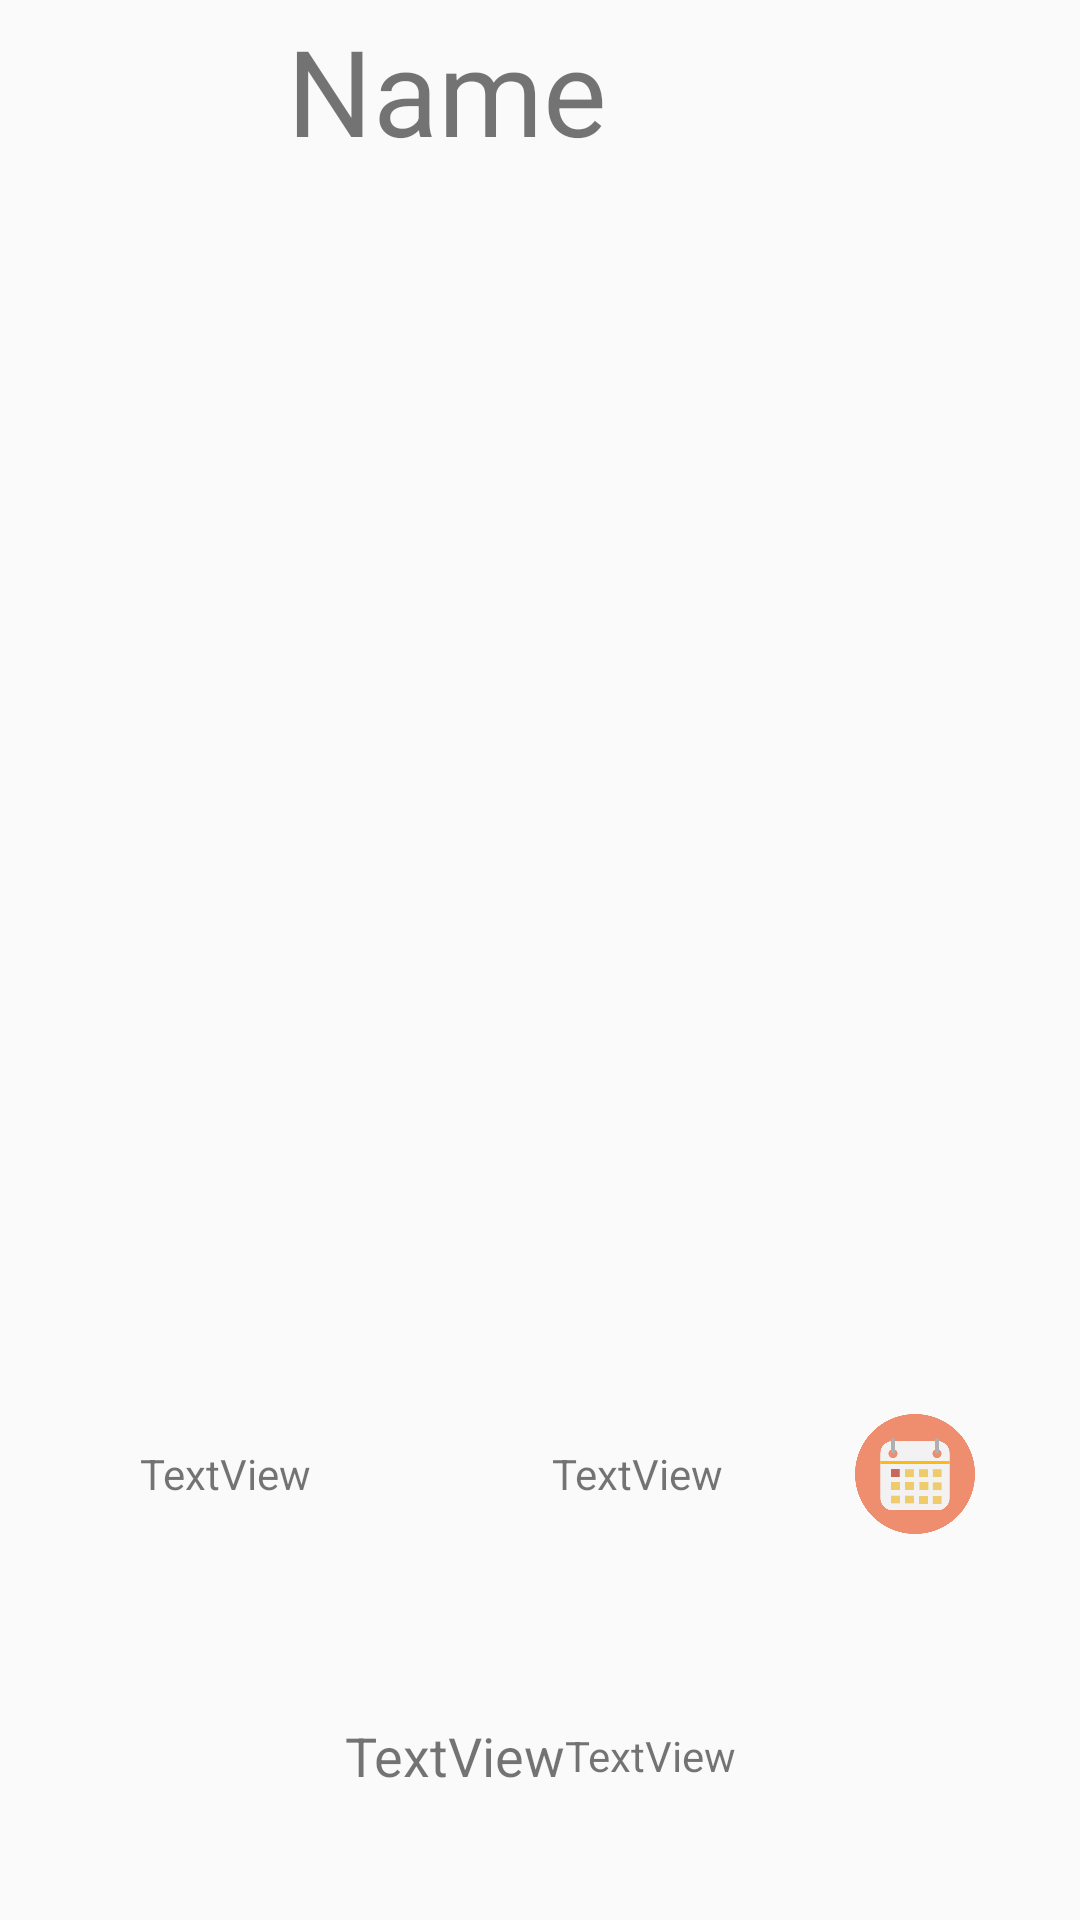

Icons on this 1080w x 1920h Android screen, each with its box as (x1, y1, x2, y2):
calend: (855, 1414, 975, 1534)
